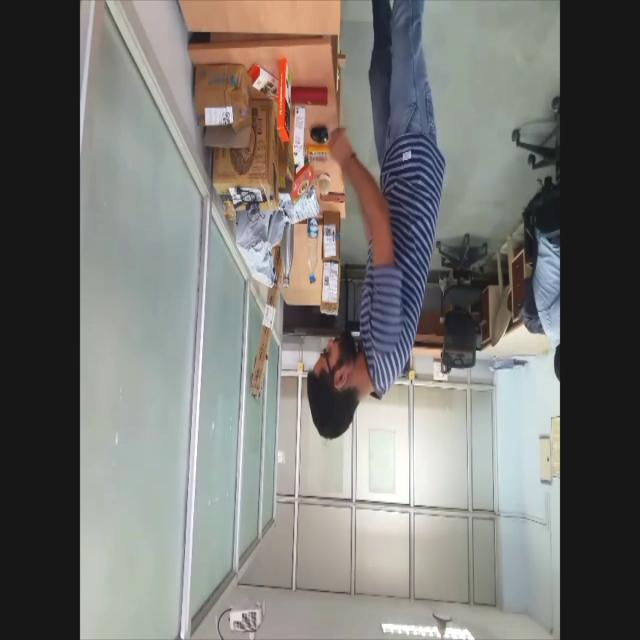normal: (305, 0, 447, 461)
